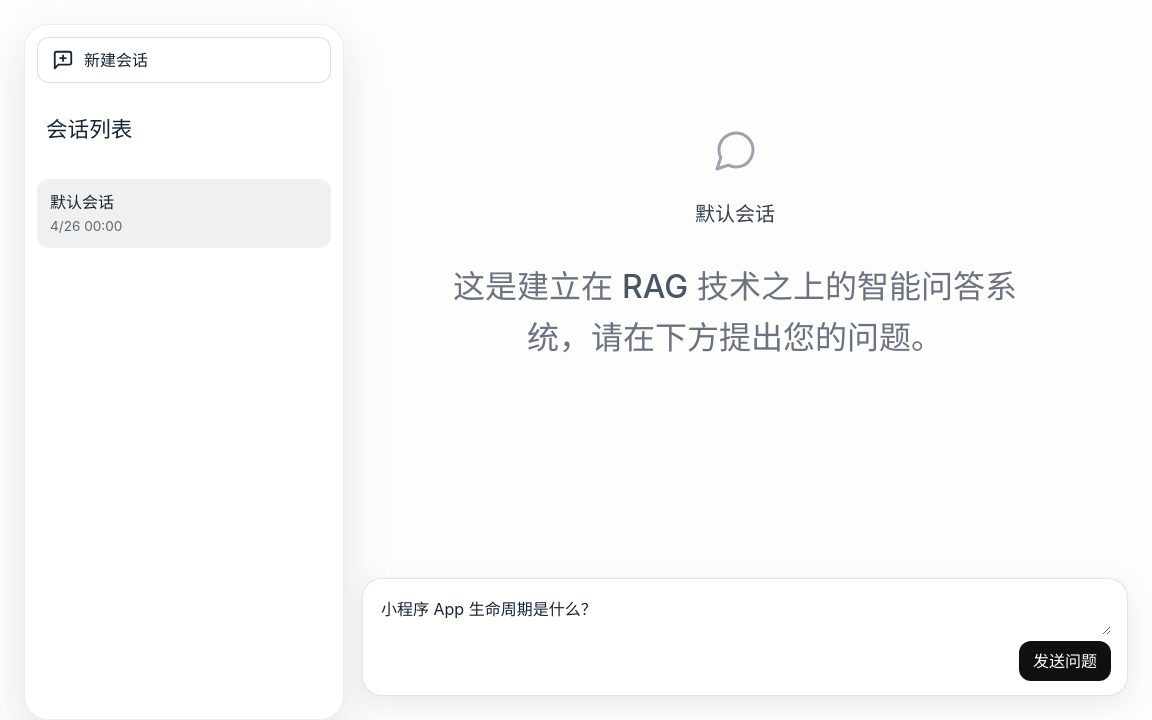
App › can pause an in-flight response and records an aborted sample
This screenshot has width=1152, height=720.
expect the button with aria-label "打开会话 默认会话" is shown: met, box [50,190,286,237]
What coordinates should you click on to do the following:
click the button "发送问题"
I would click on:
 (1065, 661)
Its box is [1019,641,1111,681].
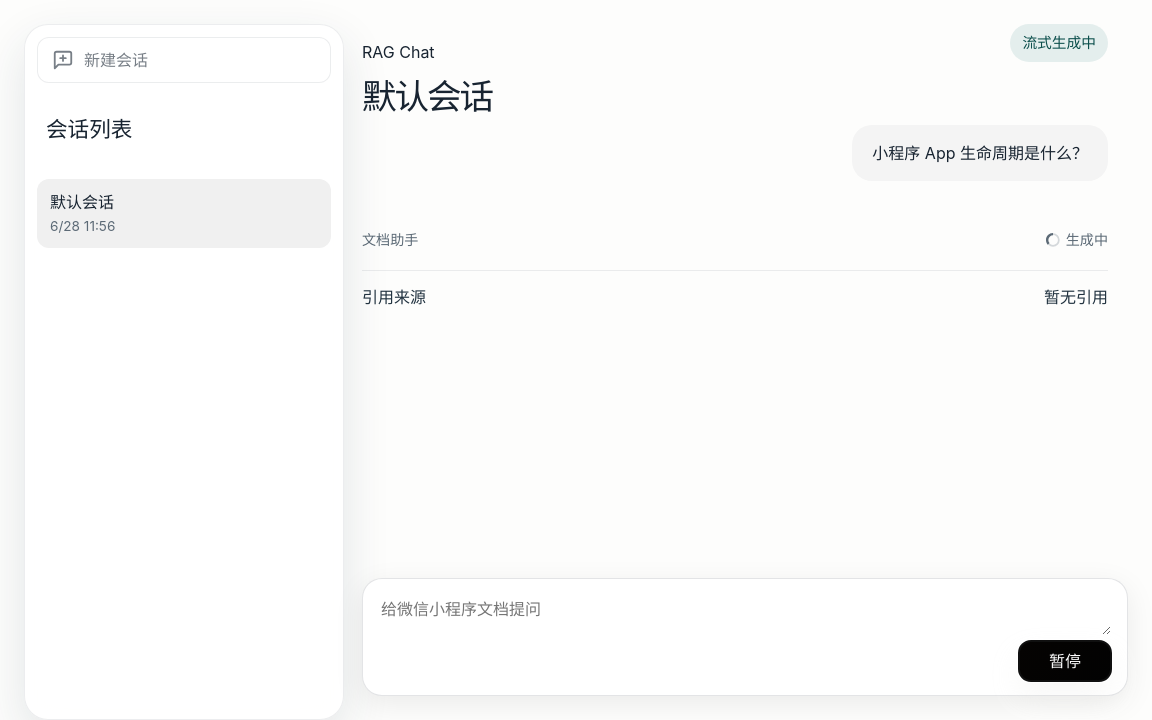
What coordinates should you click on to do the following:
click the button "暂停"
I would click on:
 (1065, 661)
Its box is [1019,641,1111,681].
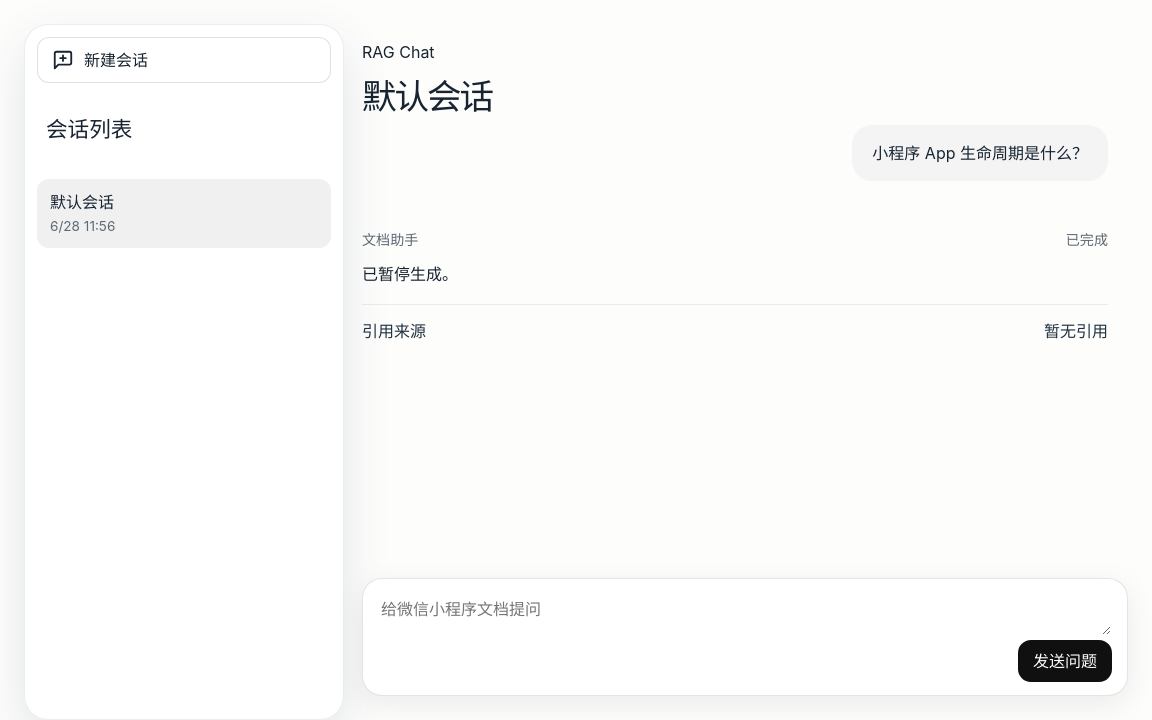
expect the text "已暂停生成。" is shown: met, box [362,264,458,284]
